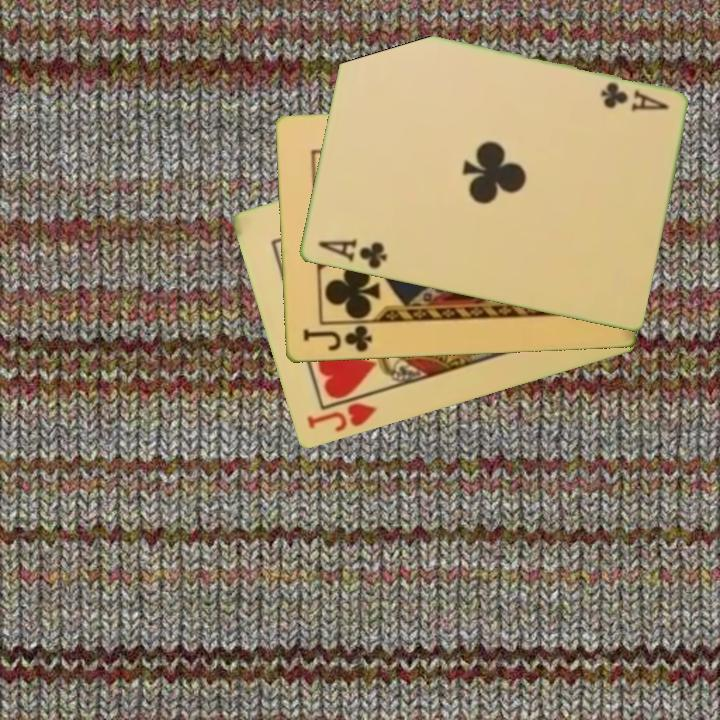Ac: (313, 235, 390, 272), (597, 79, 671, 115)
Jc: (299, 322, 375, 355)
Jh: (303, 399, 380, 436)
